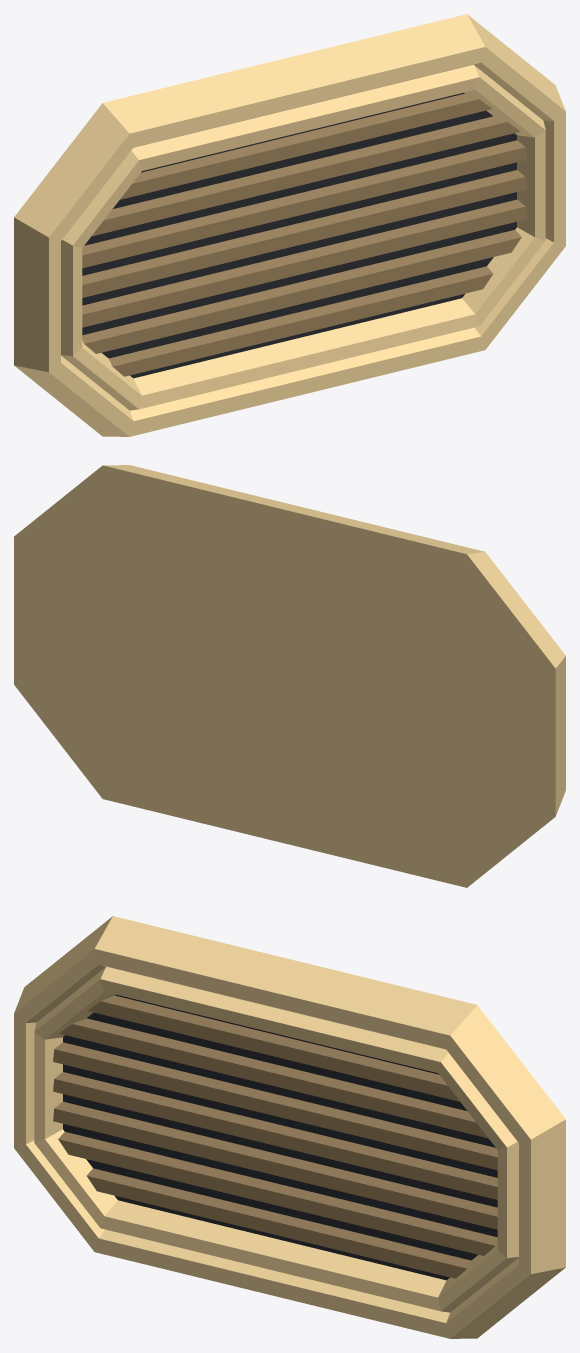
The model's file is vent.glb.
The picture shows the model from 3 angles, top to bottom: view 1: azimuth 30°, elevation 25°; view 2: azimuth 150°, elevation 25°; view 3: azimuth 330°, elevation 25°; orthographic projection.
Visible parts, largest first — view 1: vent; view 2: vent; view 3: vent.
Boxes of the visible parts, x1=… form: vent: x1=14, y1=14, x2=565, y2=436; vent: x1=14, y1=465, x2=565, y2=887; vent: x1=14, y1=916, x2=565, y2=1338.
Bounding box in the file's own units: 0.5265 × 0.3099 × 0.0413.
